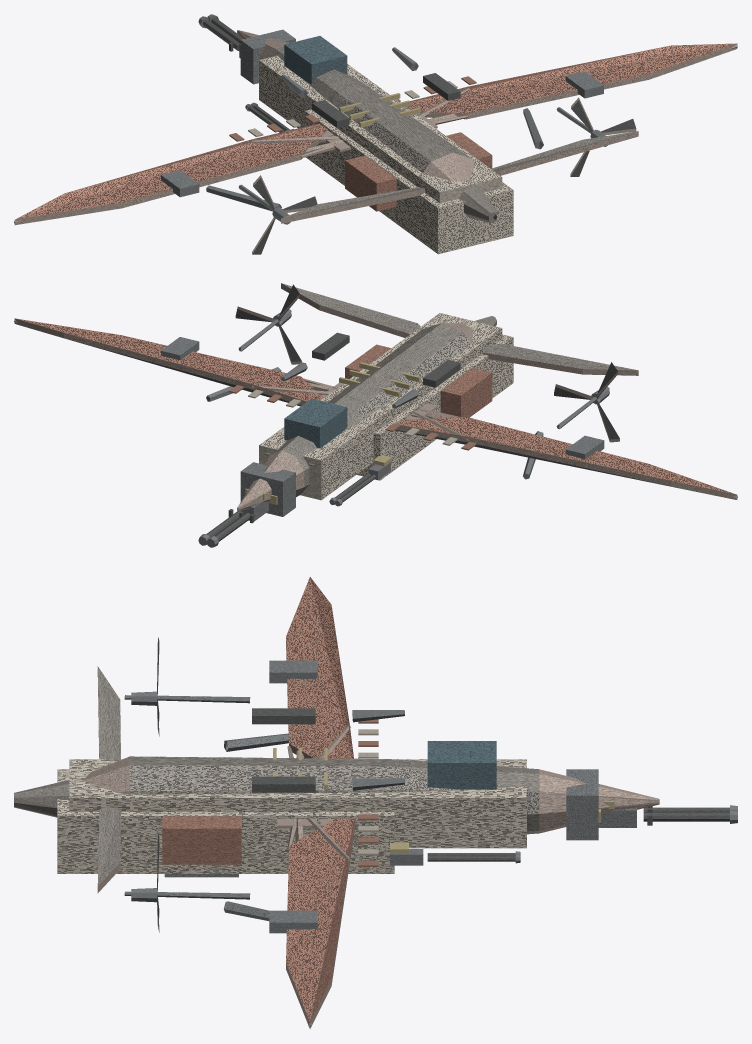
Rendered from unraveled_leviathan.glb.
3 renders of one model, top to bottom at view 1: azimuth 30°, elevation 25°; view 2: azimuth 150°, elevation 25°; view 3: azimuth 270°, elevation 25°, orthographic. The views are drawn at different scales.
Parts seen in each view (by area): view 1: unraveled_leviathan; view 2: unraveled_leviathan; view 3: unraveled_leviathan.
Boxes of the visible parts, left/top/right/bottom form: unraveled_leviathan: left=14, top=14, right=737, bottom=254; unraveled_leviathan: left=14, top=283, right=737, bottom=547; unraveled_leviathan: left=14, top=577, right=737, bottom=1028.
Bounding box in the file's own units: 20.59 × 2.45 × 14.12.
8 materials, 8 textured.
